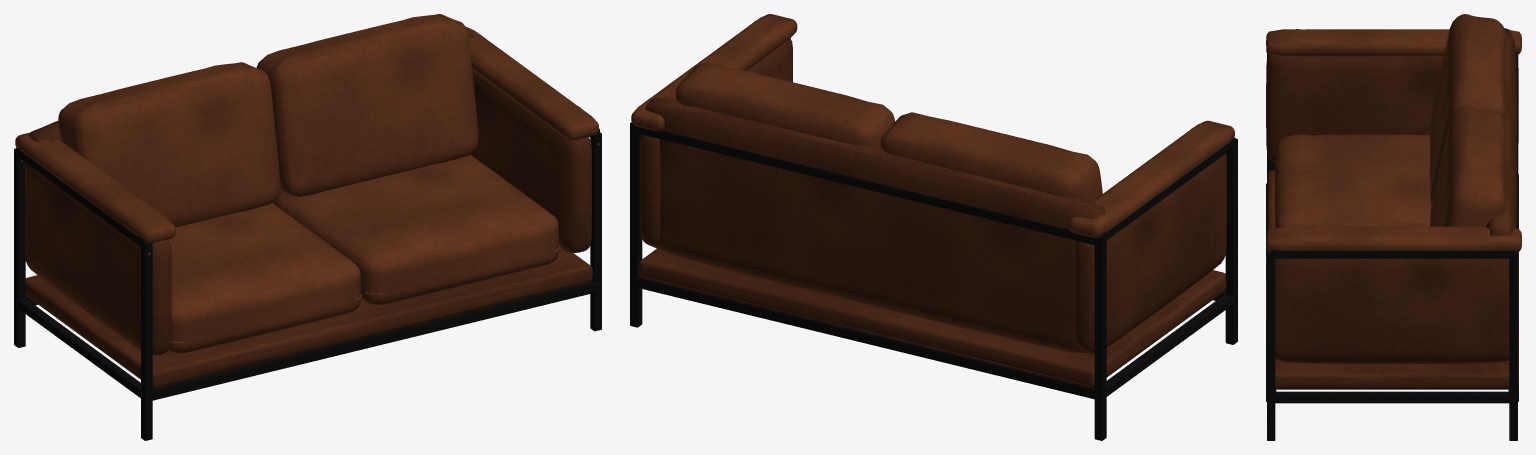
The model's file is industrial_sofa_2_lugares.glb.
The picture shows the model from 3 angles, left to right: view 1: azimuth 30°, elevation 25°; view 2: azimuth 150°, elevation 25°; view 3: azimuth 270°, elevation 25°; orthographic projection. The views are drawn at different scales.
Visible parts, largest first — view 1: sofa_2_lugares; view 2: sofa_2_lugares; view 3: sofa_2_lugares.
Boxes of the visible parts, x1,y1,x2,y2 form: sofa_2_lugares: [14, 14, 601, 440]; sofa_2_lugares: [630, 14, 1237, 440]; sofa_2_lugares: [1266, 14, 1521, 440].
Size of the model in its own units: 1.58 by 0.8165 by 0.8017.
5 materials, 3 textured.
